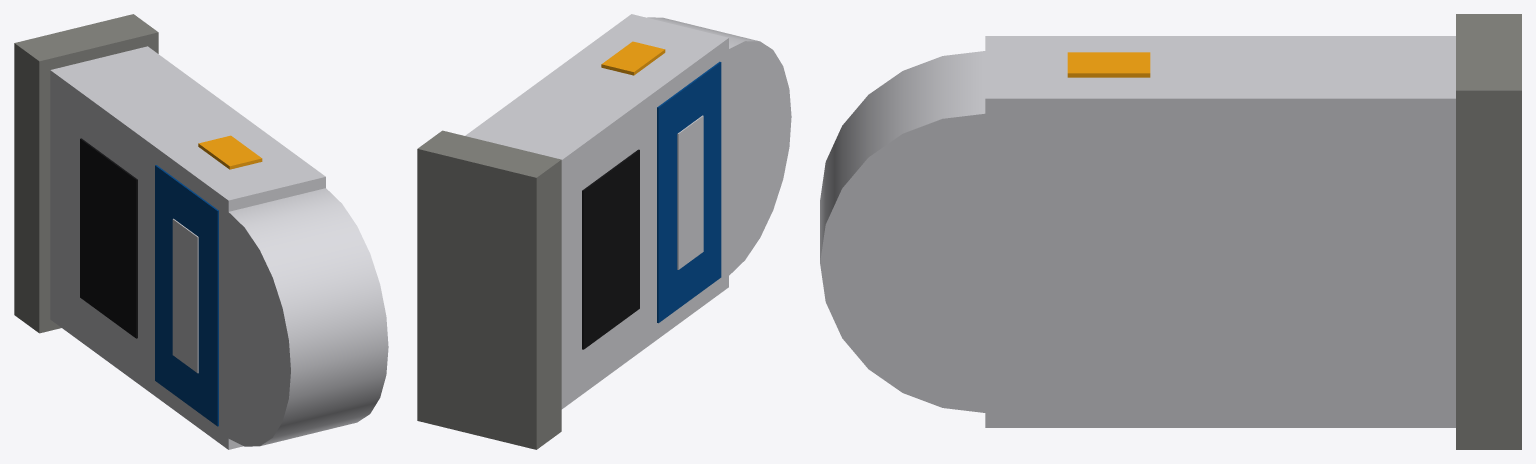
The model's file is SM_Mojon_Kilometrico.obj.
3 views of the same model, side by side, from view 1: azimuth 30°, elevation 25°; view 2: azimuth 150°, elevation 25°; view 3: azimuth 270°, elevation 25° (orthographic). The views are drawn at different scales.
Parts seen in each view (by area): view 1: SM_Mojon_Kilometrico; view 2: SM_Mojon_Kilometrico; view 3: SM_Mojon_Kilometrico.
Boxes of the visible parts, left/top/right/bottom form: SM_Mojon_Kilometrico: left=14, top=14, right=388, bottom=449; SM_Mojon_Kilometrico: left=417, top=14, right=791, bottom=449; SM_Mojon_Kilometrico: left=820, top=14, right=1521, bottom=449.
Bounding box in the file's own units: 22 × 48 × 85.
